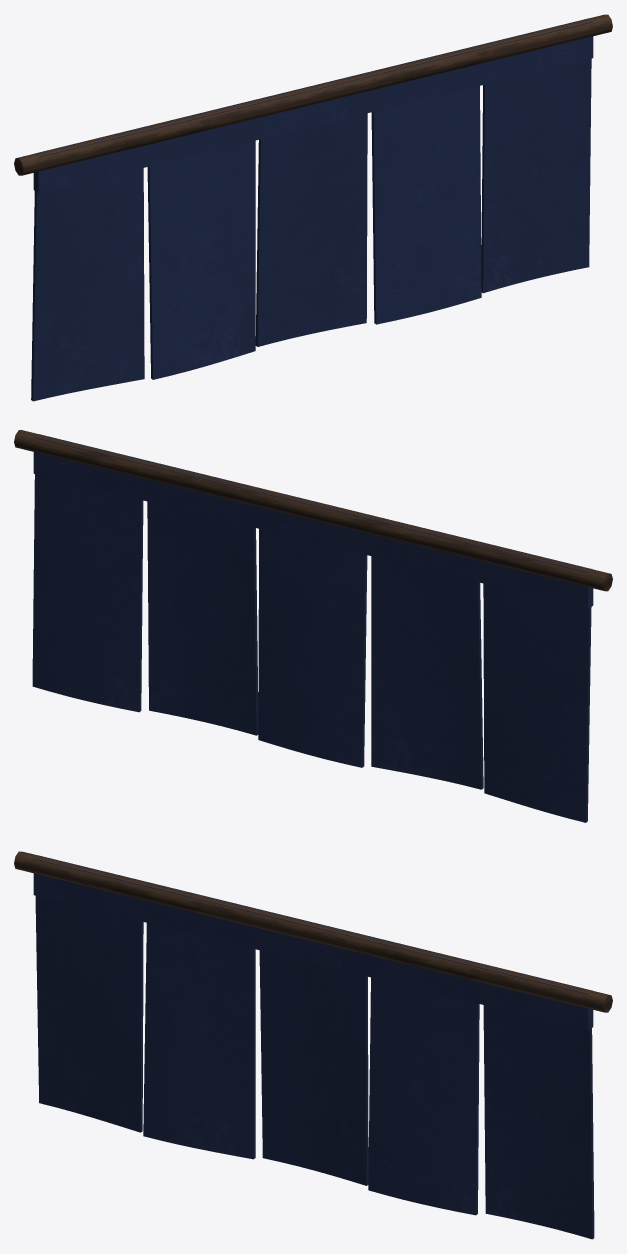
The model's file is HO_Prop_Noren_8_Navy.fbx.
3 renders of one model, top to bottom at view 1: azimuth 30°, elevation 25°; view 2: azimuth 150°, elevation 25°; view 3: azimuth 330°, elevation 25°, orthographic.
Parts seen in each view (by area): view 1: HO_Prop_Noren_8_Navy__Cloth_Navy, HO_Prop_Noren_8_Navy__Timber_Dark; view 2: HO_Prop_Noren_8_Navy__Cloth_Navy, HO_Prop_Noren_8_Navy__Timber_Dark; view 3: HO_Prop_Noren_8_Navy__Cloth_Navy, HO_Prop_Noren_8_Navy__Timber_Dark.
Boxes of the visible parts, box(x1,y1,x2,y2) form: HO_Prop_Noren_8_Navy__Cloth_Navy: box(31, 18, 593, 401); HO_Prop_Noren_8_Navy__Timber_Dark: box(14, 14, 612, 175); HO_Prop_Noren_8_Navy__Cloth_Navy: box(32, 434, 593, 822); HO_Prop_Noren_8_Navy__Timber_Dark: box(14, 430, 612, 591); HO_Prop_Noren_8_Navy__Cloth_Navy: box(33, 855, 594, 1239); HO_Prop_Noren_8_Navy__Timber_Dark: box(14, 851, 612, 1012).
Size of the model in its own units: 8.5 by 3.44 by 0.2498.
